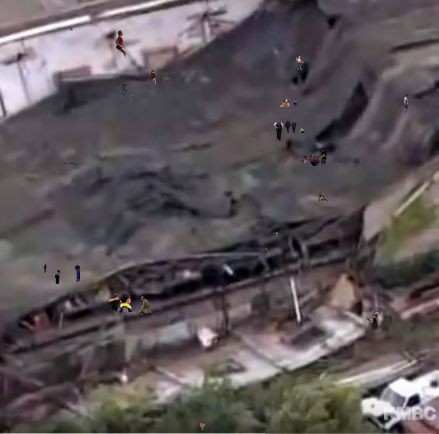Human: (53, 265, 80, 284), (273, 120, 297, 141), (108, 293, 134, 312), (300, 148, 327, 166), (115, 30, 127, 64), (147, 70, 170, 86), (137, 296, 152, 317), (280, 98, 297, 107), (372, 311, 381, 327), (404, 94, 411, 113), (296, 56, 304, 70), (318, 192, 329, 202), (120, 82, 128, 95), (58, 162, 78, 165), (43, 263, 47, 273), (200, 422, 205, 430), (298, 128, 305, 133), (129, 94, 134, 101), (273, 232, 278, 238), (366, 317, 371, 321), (264, 248, 268, 253), (70, 28, 73, 31), (230, 283, 232, 286), (34, 294, 36, 297), (122, 339, 123, 343), (257, 203, 258, 206), (35, 282, 36, 283)
